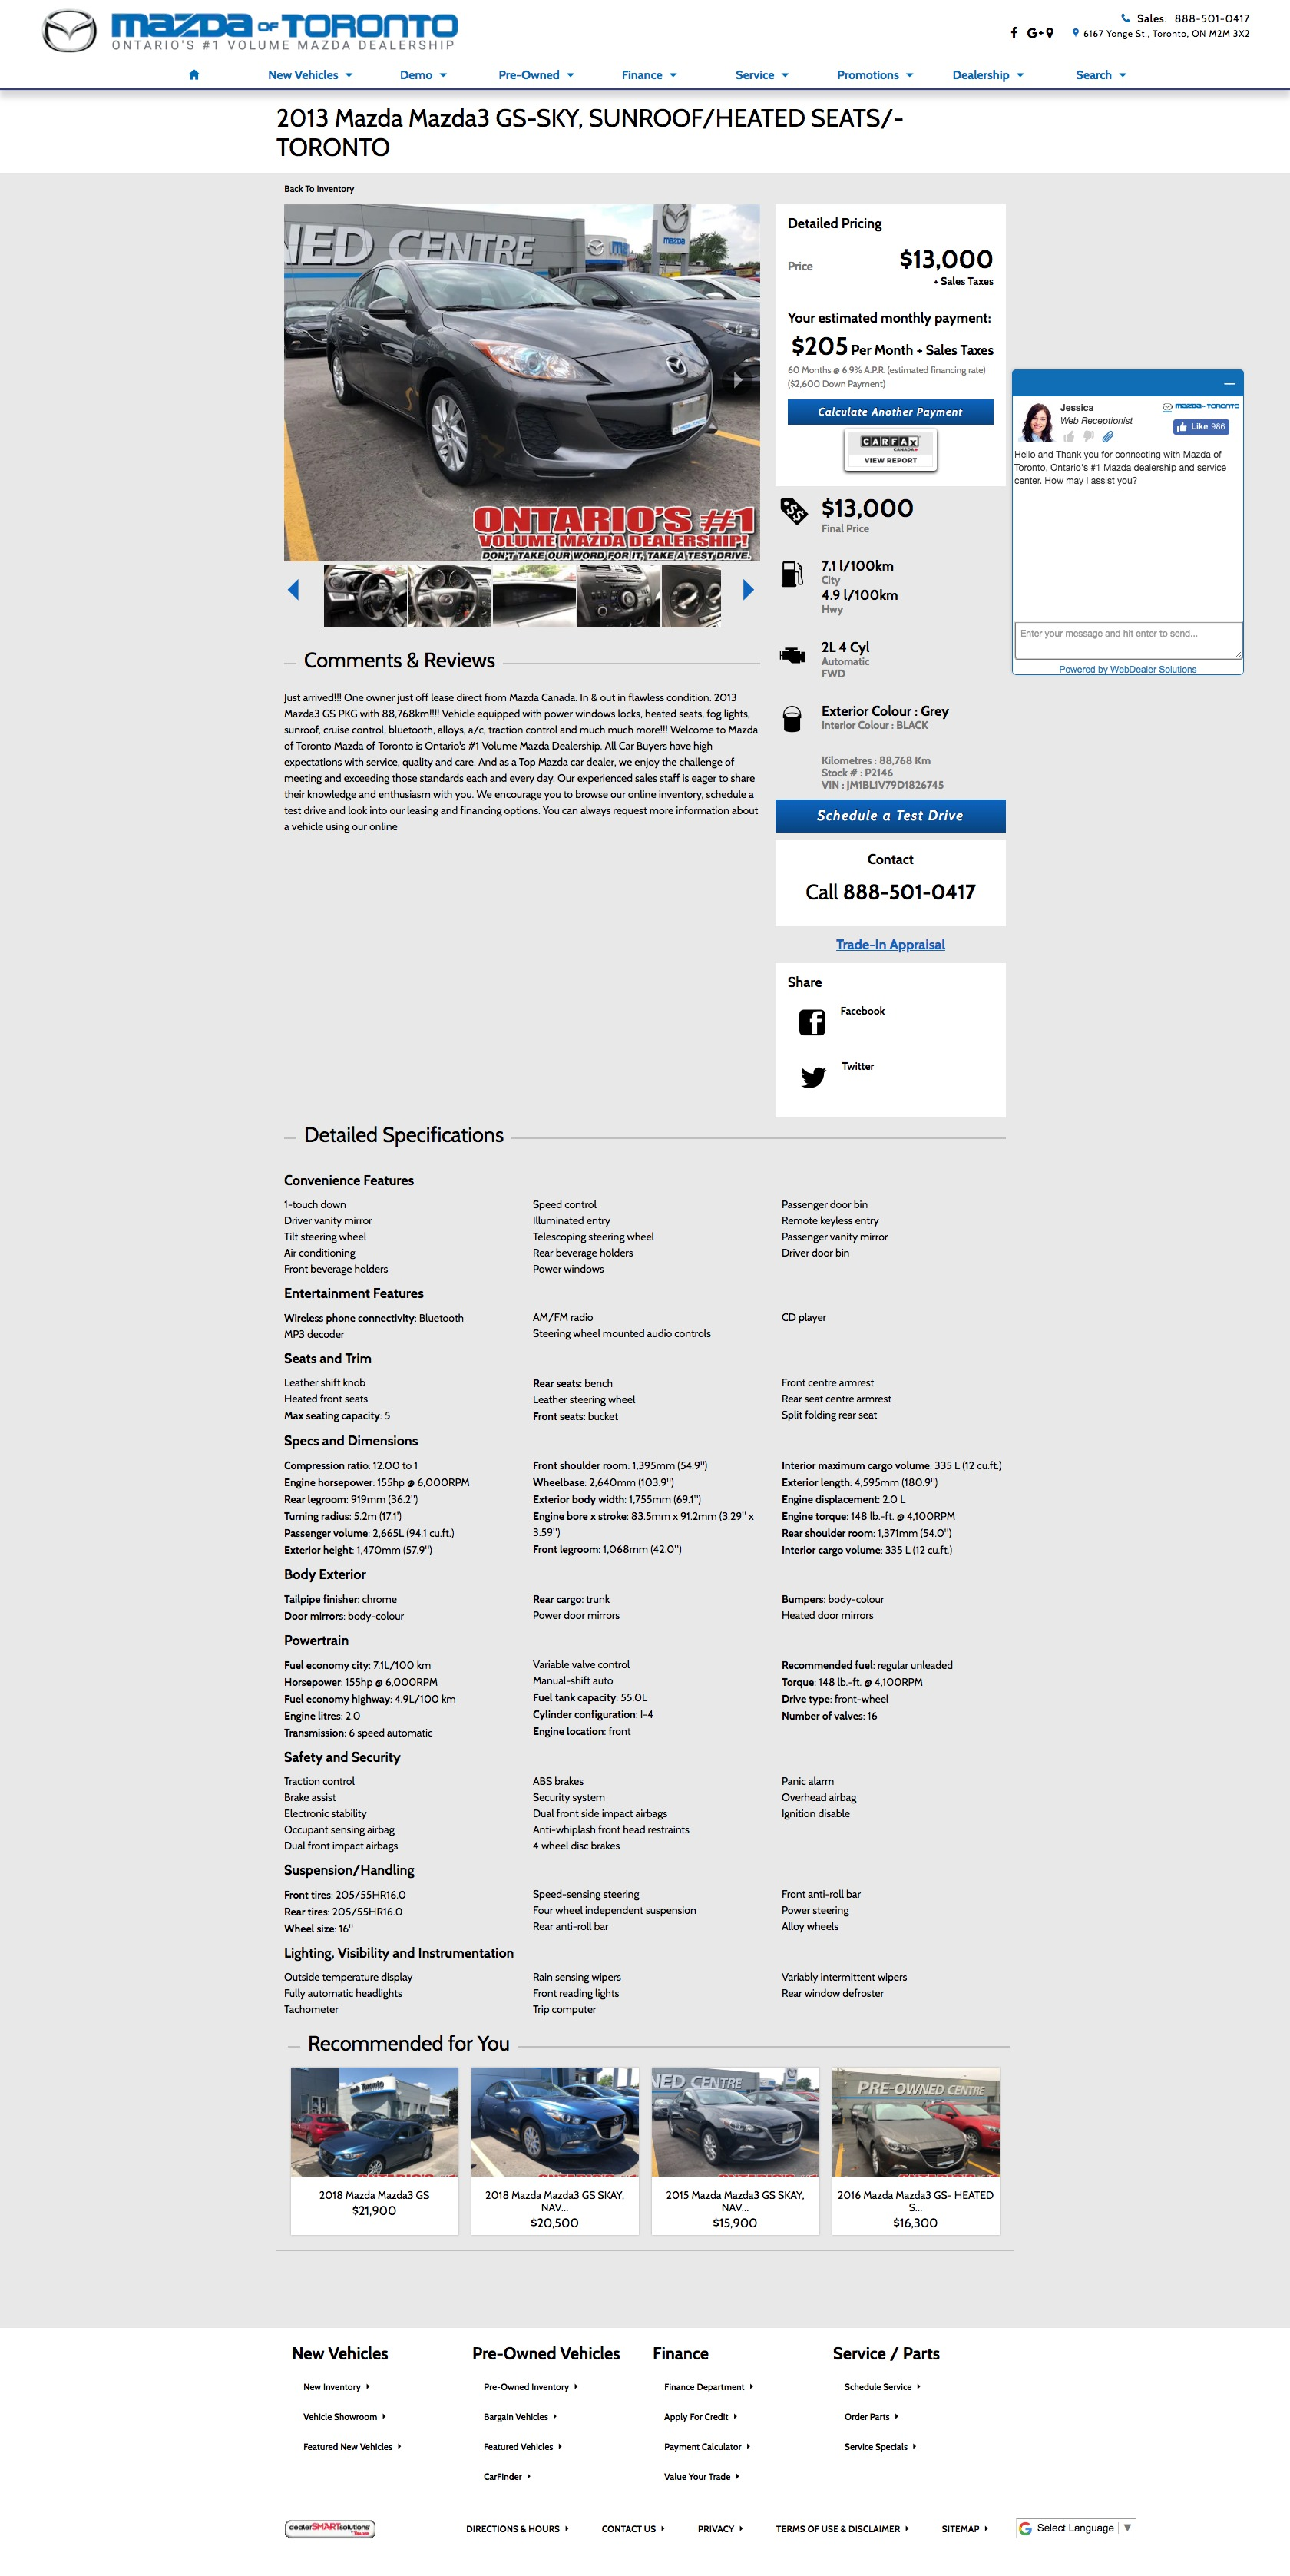car: (742, 577, 757, 602)
